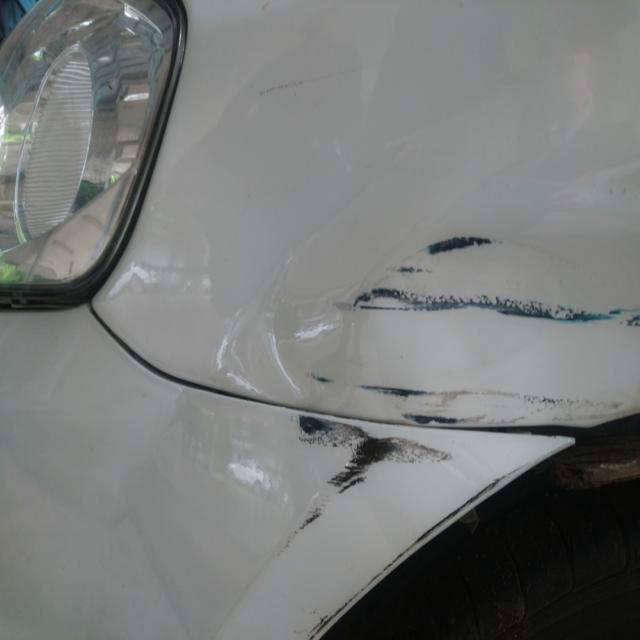Cabossage: (192, 162, 430, 591)
Rayure: (287, 356, 640, 555), (349, 222, 640, 337), (243, 56, 392, 105)
